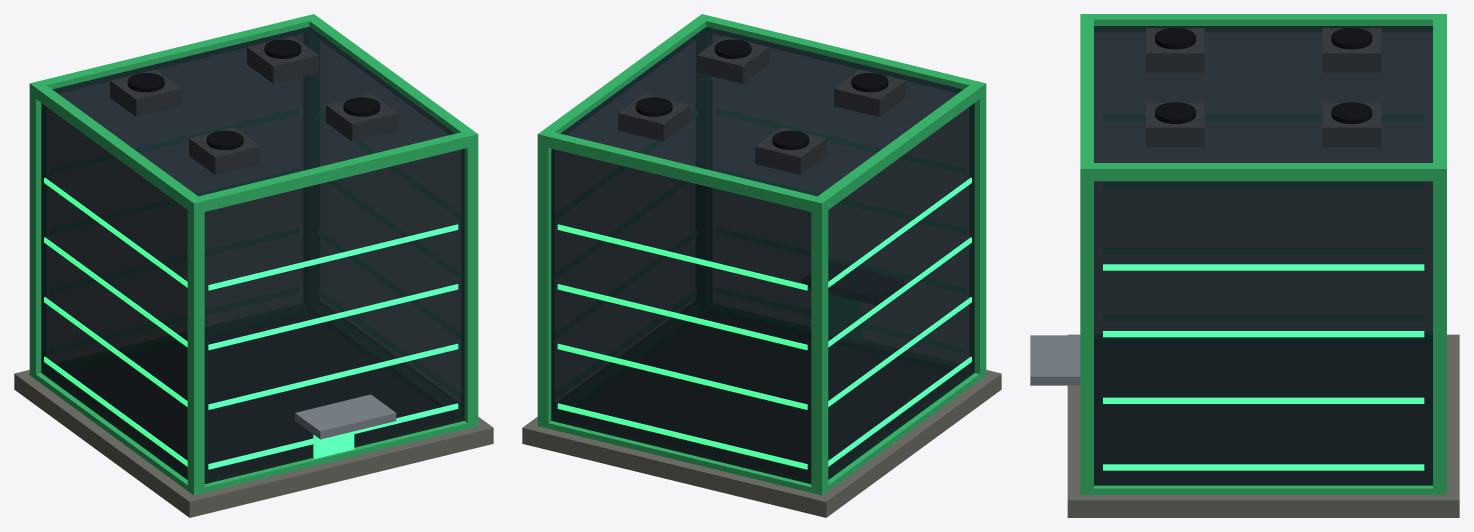
The model's file is data-center-cube.glb.
3 renders of one model, left to right at view 1: azimuth 30°, elevation 25°; view 2: azimuth 150°, elevation 25°; view 3: azimuth 270°, elevation 25°, orthographic. The views are drawn at different scales.
Visible parts, largest first — view 1: data-center-cube; view 2: data-center-cube; view 3: data-center-cube.
Boxes of the visible parts, left/top/right/bottom form: data-center-cube: left=14, top=14, right=493, bottom=517; data-center-cube: left=522, top=14, right=1001, bottom=517; data-center-cube: left=1030, top=14, right=1459, bottom=517.
Size of the model in its own units: 20 by 20.35 by 21.9.
